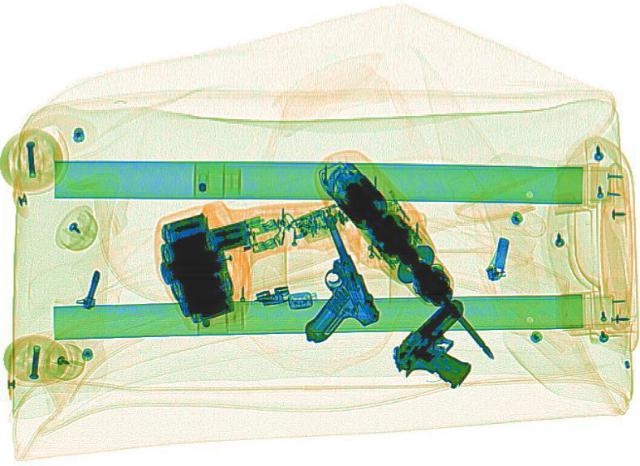Gun: (260, 212, 386, 342), (376, 291, 516, 392)
